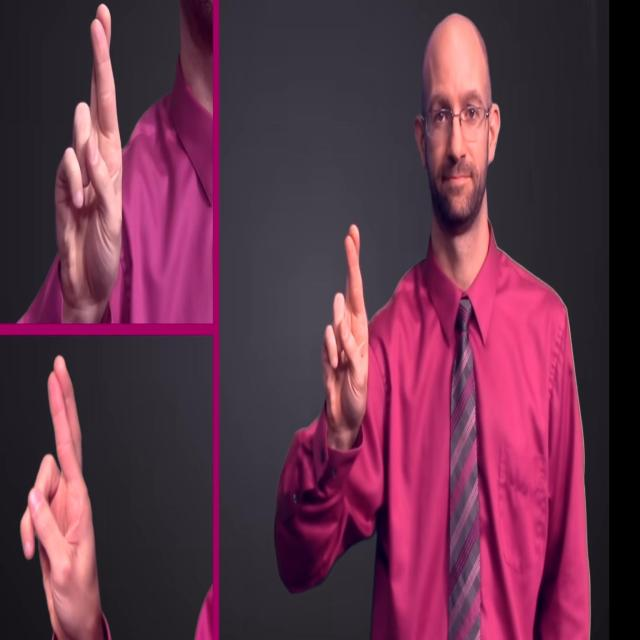R: (18, 350, 108, 640), (52, 0, 126, 309), (322, 218, 371, 432)
